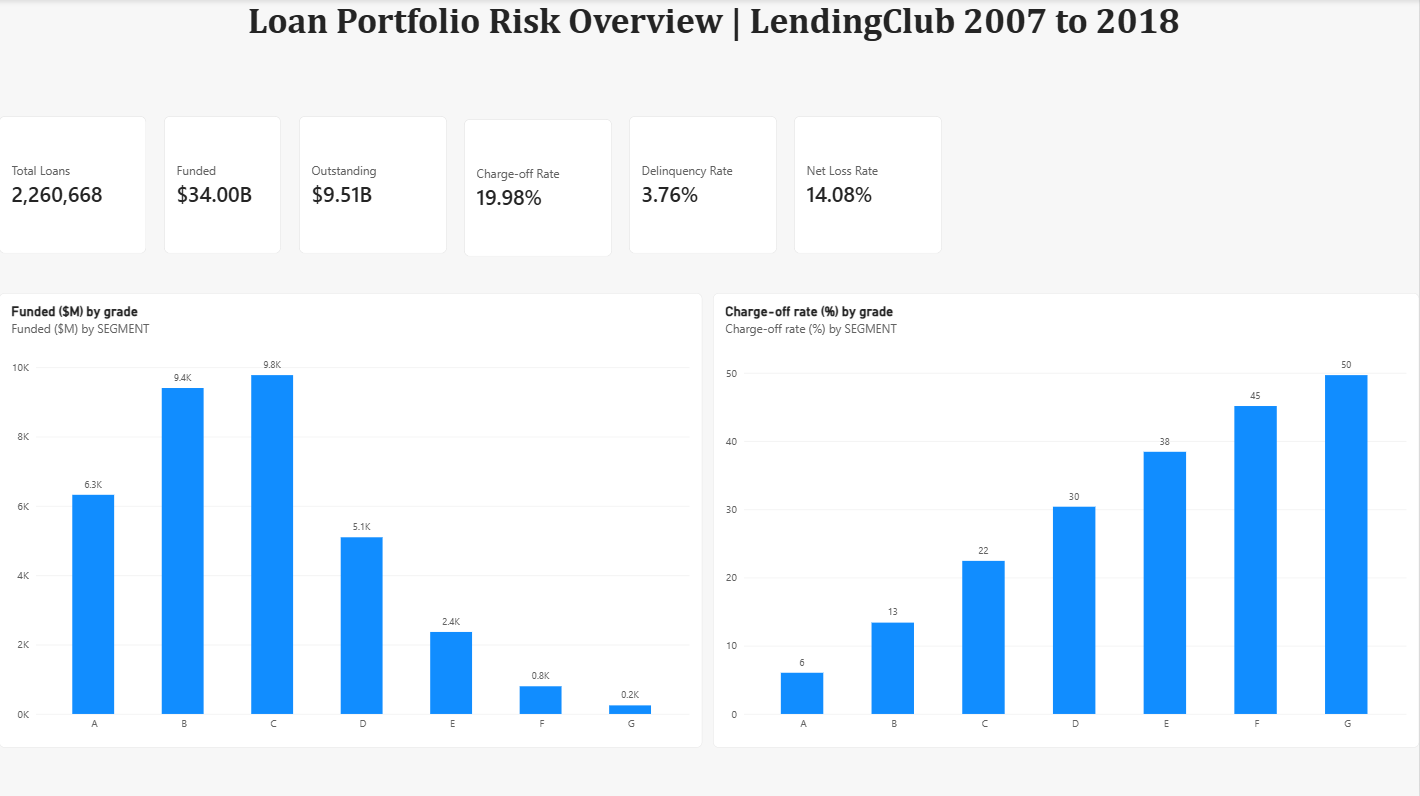

Layout of this report page (visuals, bound fields, positions):
{"tool":"powerbi","page":{"name":"Portfolio Overview","canvas":[1920,1080],"ordinal":0},"visuals":[{"type":"textbox","box":[11.3,0,1907.7,68],"z":0},{"type":"cardVisual","fields":{"Data":["pbi_portfolio_kpis.Total Loans","pbi_portfolio_kpis.Total Loans","pbi_portfolio_kpis.Funded"]},"box":[0,159,199.9,186.2],"z":1},{"type":"cardVisual","fields":{"Data":["pbi_portfolio_kpis.Funded"]},"box":[223,159,159,186.2],"z":2},{"type":"cardVisual","fields":{"Data":["pbi_portfolio_kpis.Outstanding"]},"box":[405.1,159,200,186],"z":3},{"type":"cardVisual","fields":{"Data":["pbi_portfolio_kpis.Charge-off Rate"]},"box":[628.1,161.3,200,186],"z":4},{"type":"cardVisual","fields":{"Data":["pbi_portfolio_kpis.Delinquency Rate"]},"box":[851.2,159,200,186],"z":5},{"type":"cardVisual","fields":{"Data":["pbi_portfolio_kpis.Net Loss Rate"]},"box":[1074.3,159,200,186],"z":6},{"type":"clusteredColumnChart","title":"Funded ($M) by grade","fields":{"Category":["pbi_risk_by_segment.SEGMENT"],"Y":["Sum(pbi_risk_by_segment.FUNDED_MILLIONS)"]},"box":[0,397.4,950.9,614.4],"z":7},{"type":"clusteredColumnChart","title":"Charge-off rate (%) by grade","fields":{"Category":["pbi_risk_by_segment.SEGMENT"],"Y":["Sum(pbi_risk_by_segment.CHARGE_OFF_RATE_PCT)"]},"box":[965.1,397.4,955,614.4],"z":8}]}

Visuals, with their boxes in screenshot pixels (x1, y1, x2, y2), scaled from the page's 1920x1080 canvas onto the 1420x796 screenshot:
textbox: [x1=8, y1=0, x2=1419, y2=50]
cardVisual - pbi_portfolio_kpis.Total Loans x pbi_portfolio_kpis.Total Loans: [x1=0, y1=117, x2=148, y2=254]
cardVisual - pbi_portfolio_kpis.Funded: [x1=165, y1=117, x2=283, y2=254]
cardVisual - pbi_portfolio_kpis.Outstanding: [x1=300, y1=117, x2=448, y2=254]
cardVisual - pbi_portfolio_kpis.Charge-off Rate: [x1=465, y1=119, x2=612, y2=256]
cardVisual - pbi_portfolio_kpis.Delinquency Rate: [x1=630, y1=117, x2=777, y2=254]
cardVisual - pbi_portfolio_kpis.Net Loss Rate: [x1=795, y1=117, x2=942, y2=254]
"Funded ($M) by grade" clusteredColumnChart: [x1=0, y1=293, x2=703, y2=746]
"Charge-off rate (%) by grade" clusteredColumnChart: [x1=714, y1=293, x2=1419, y2=746]
